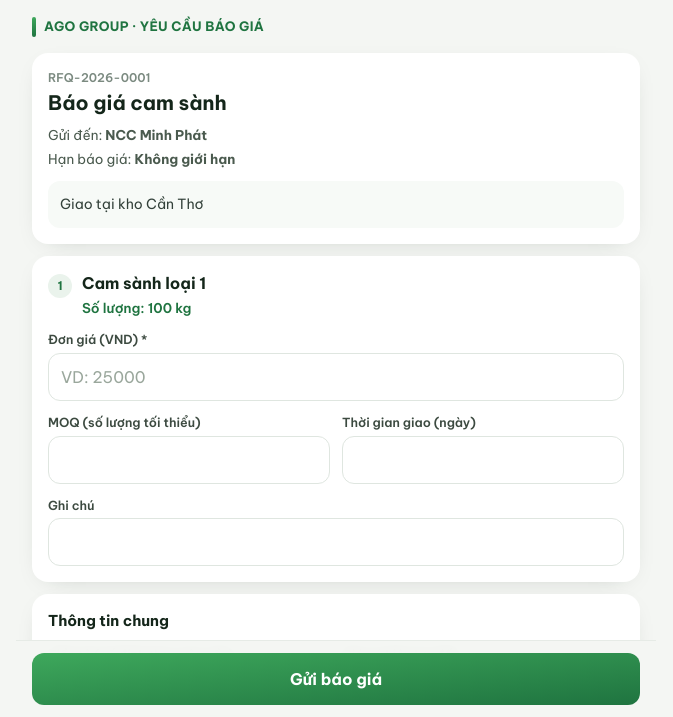
PublicQuotePage › chặn gửi khi chưa nhập giá nào và không gọi POST
The width and height of the screenshot is (673, 717).
What coordinates should you click on to do the following:
click the button "Gửi báo giá"
I would click on:
 (336, 679)
Its box is [32,653,640,705].
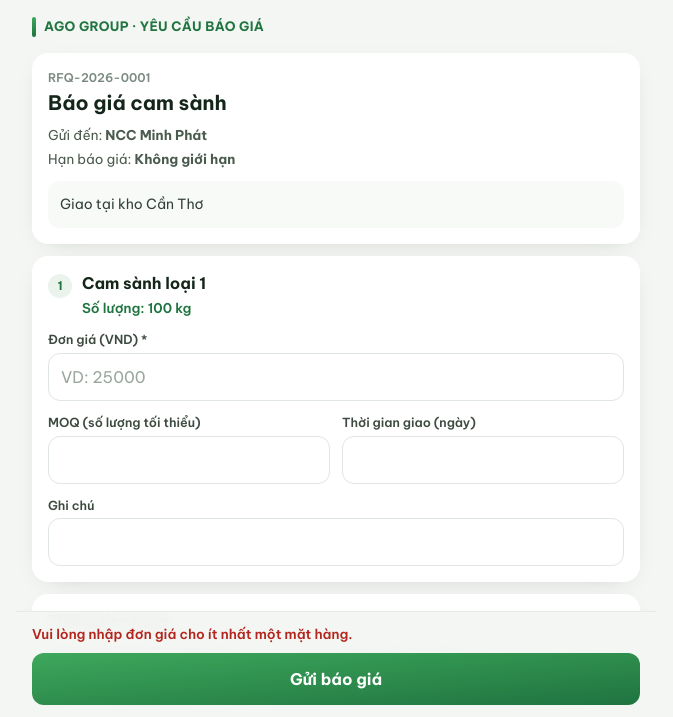
Result: the text "Vui lòng nhập đơn giá cho ít nhất một mặt hàng." is shown at [32,626,353,644]
